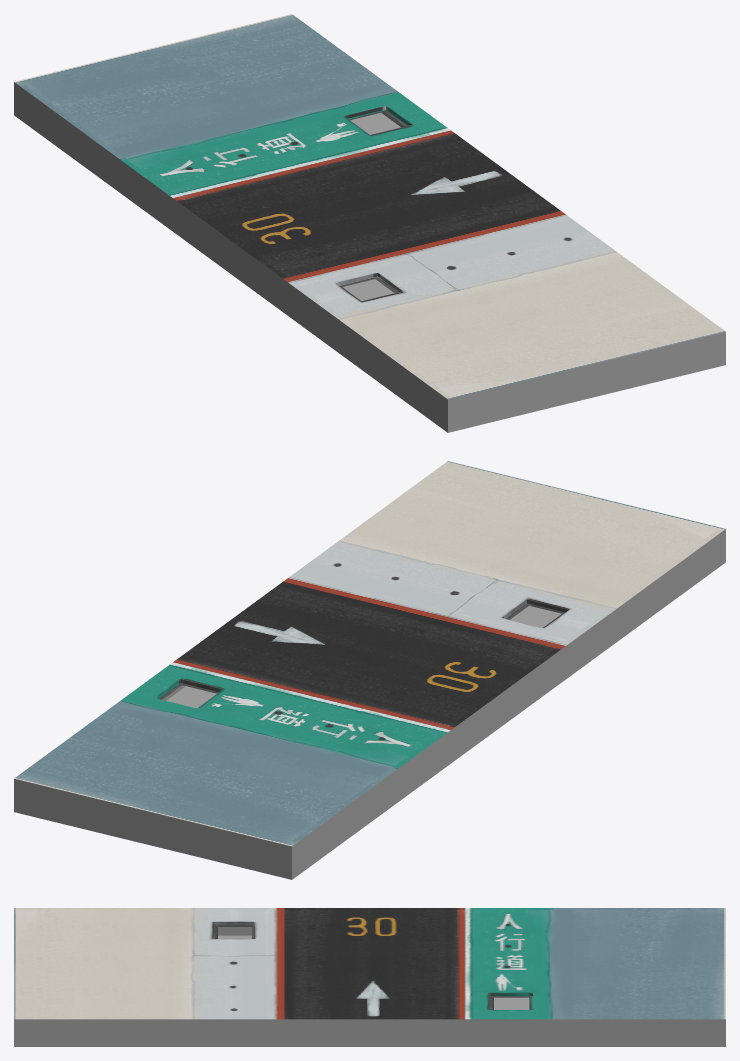
Rendered from ground2.fbx.
3 renders of one model, top to bottom at view 1: azimuth 30°, elevation 25°; view 2: azimuth 150°, elevation 25°; view 3: azimuth 270°, elevation 25°, orthographic. The views are drawn at different scales.
Visible parts, largest first — view 1: pCube1; view 2: pCube1; view 3: pCube1.
Part boxes in pixels (box(x1,y1,x2,y2)): pCube1: box(14, 14, 725, 432); pCube1: box(14, 461, 725, 879); pCube1: box(14, 908, 725, 1046).
Bounding box in the file's own units: 4.05 × 0.4664 × 10.96.
Materials: 3 (2 with a texture image).
